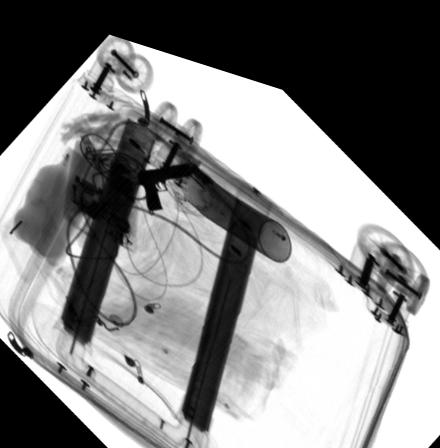Gun: (136, 152, 191, 200)
